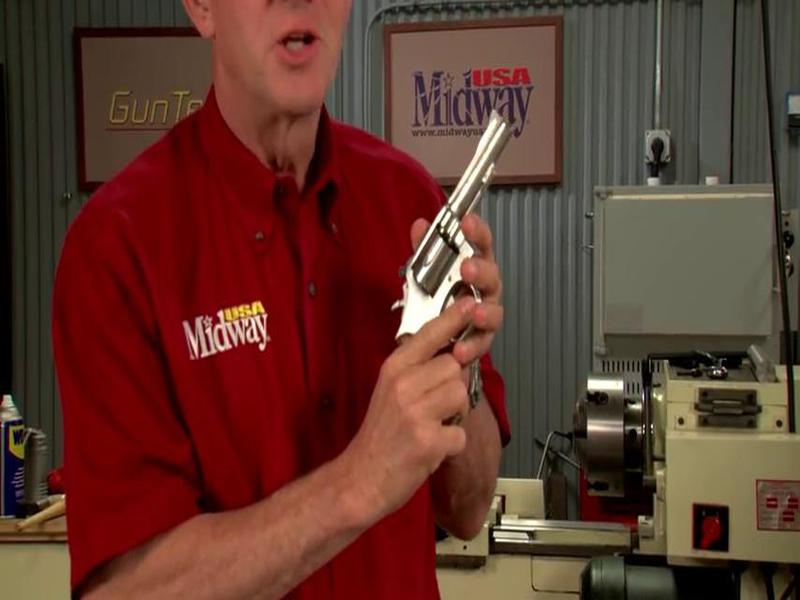Revolver: (367, 78, 524, 363)
